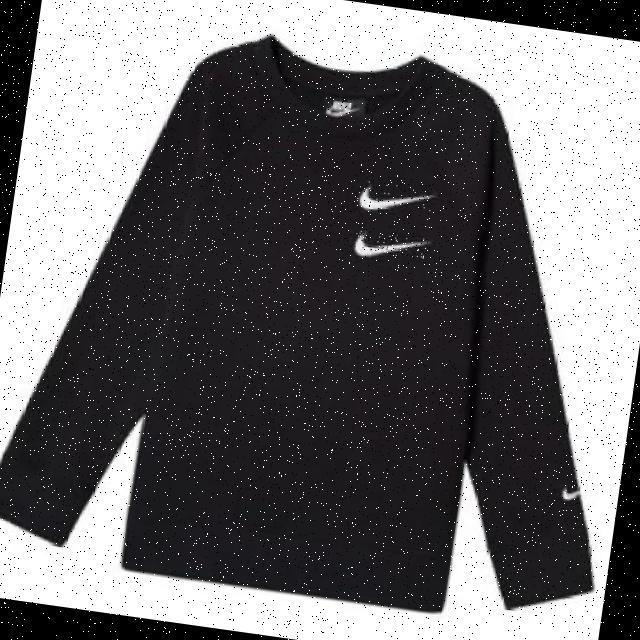Nike: (357, 181, 436, 217), (352, 228, 429, 263), (324, 95, 359, 118), (560, 485, 578, 501)
